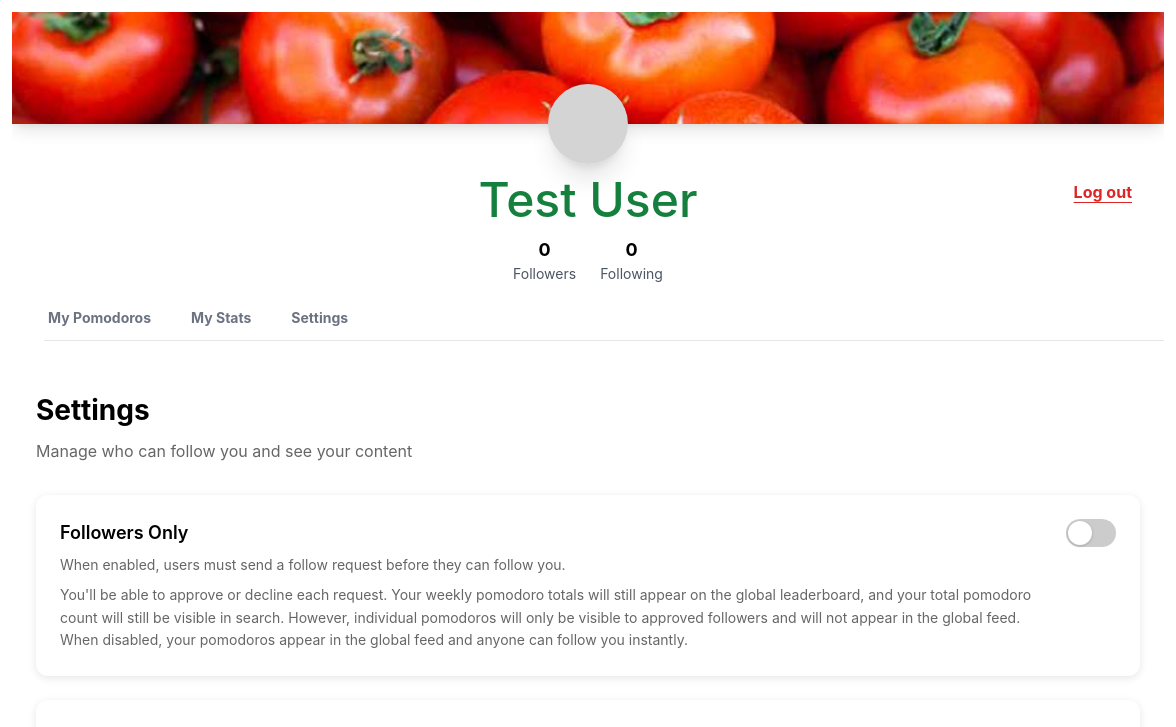
Test: PrivacySettings › should show error message on update failure
Expected: the heading "Settings" is shown, left=36, top=393, right=150, bottom=427
Click the 4th button at x=1091, y=533, box left=1066, top=519, right=1116, bottom=547
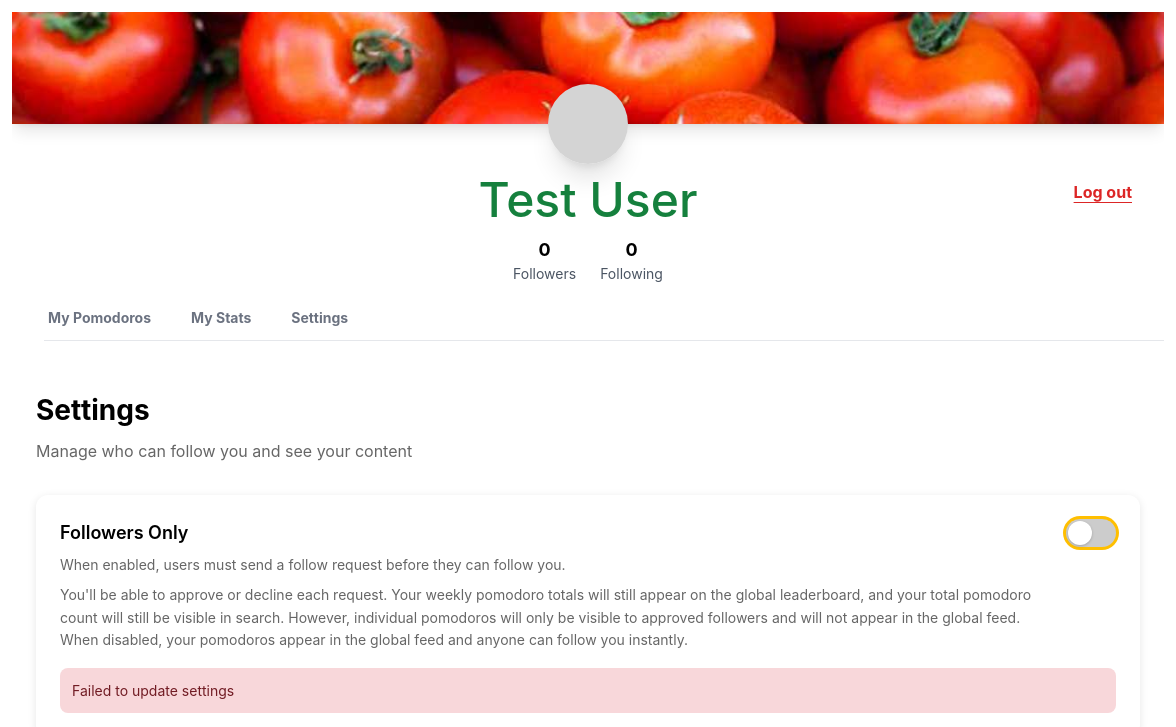
Expected: the text "Failed to update settings" is shown, left=60, top=668, right=1116, bottom=713
